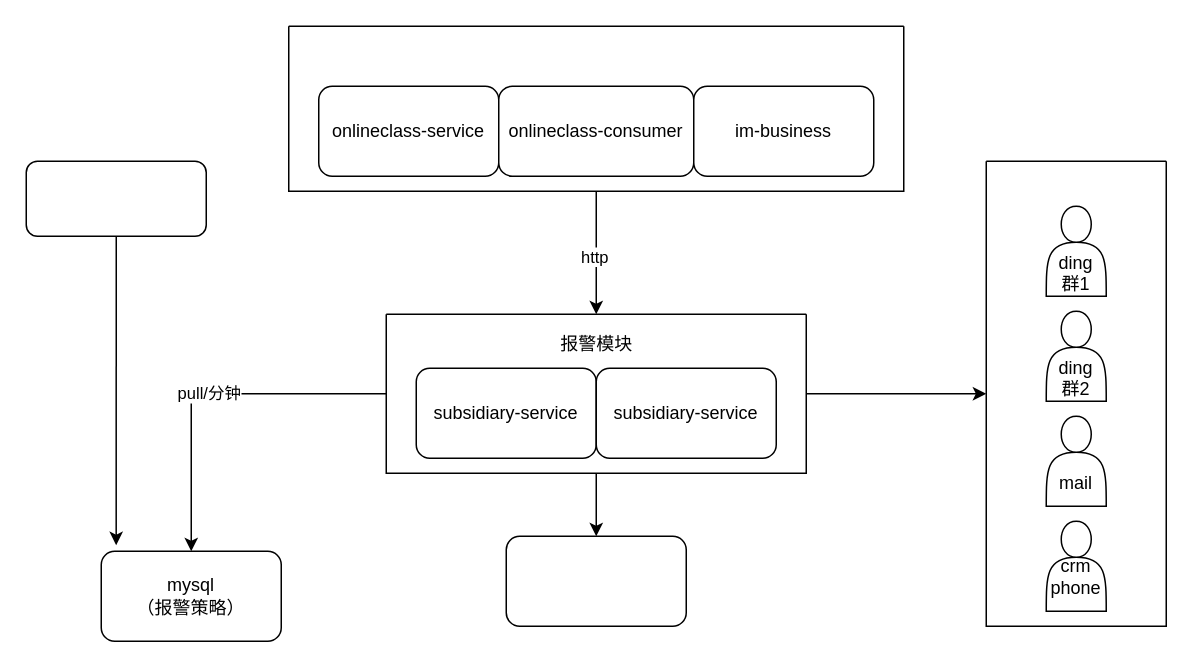
Image size: 1193x668. Some labels were removed from this diagram. The shapes that lost their labels are listed below. From the top down, each one's centre as x and y in pixels, then its label:
At (595,108): "业务模块".
At (115,198): "策略配置".
At (1075,393): "报警接收".
At (595,580): "redis/kakfa (报警数据）".
